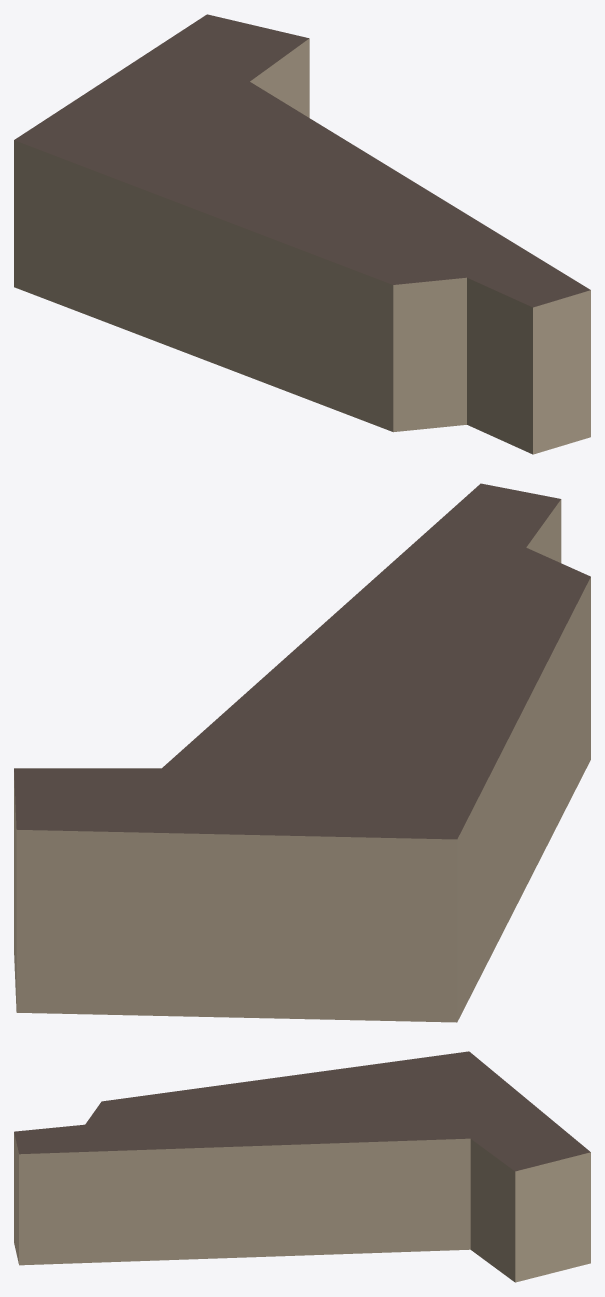
3 views of the same model, one above another, from view 1: azimuth 30°, elevation 25°; view 2: azimuth 150°, elevation 25°; view 3: azimuth 270°, elevation 25° (orthographic). The views are drawn at different scales.
Parts seen in each view (by area): view 1: HP-w734452862; view 2: HP-w734452862; view 3: HP-w734452862.
Boxes of the visible parts, bbox=[...] form: HP-w734452862: bbox=[14, 14, 590, 454]; HP-w734452862: bbox=[14, 483, 590, 1022]; HP-w734452862: bbox=[14, 1051, 590, 1282].
Size of the model in its own units: 20.87 by 9 by 42.35.
